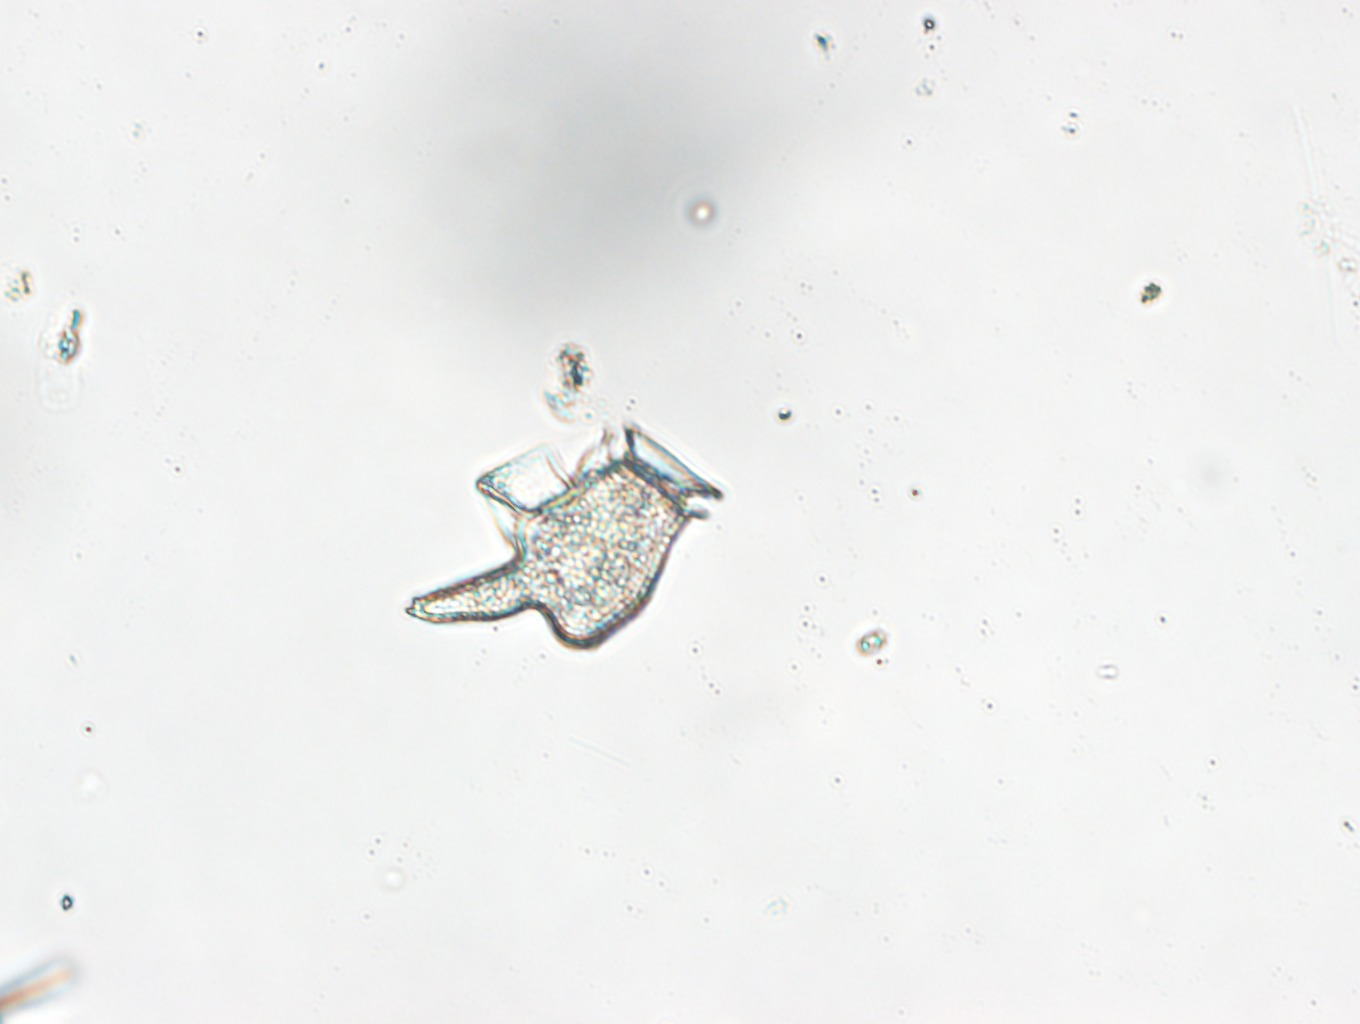dinophysis caudata: (403, 419, 725, 650)
